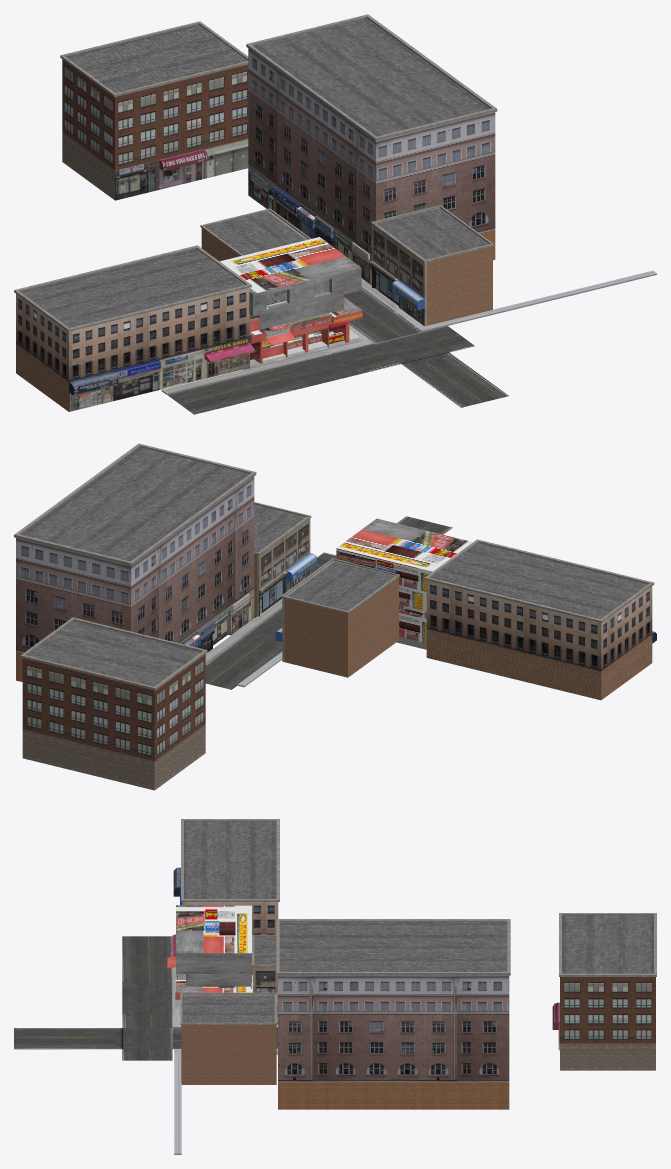
File: Pharmacy.glb
3 renders of one model, top to bottom at view 1: azimuth 30°, elevation 25°; view 2: azimuth 150°, elevation 25°; view 3: azimuth 270°, elevation 25°, orthographic. The views are drawn at different scales.
Parts seen in each view (by area): view 1: Building_02, Building_06, Building_04, Road, Building_09, CSGCombiner3D22, Building_09.001, Sidewalk.001, Sidewalk; view 2: Building_02, Building_06, Building_04, Building_09.001, CSGCombiner3D22, Building_09, Road, Sidewalk.001; view 3: Building_02, Building_04, Building_06, Building_09, Road, CSGCombiner3D22, Building_09.001, Sidewalk.001.
Part boxes in pixels (x1=…): Building_02: x1=246, y1=14, x2=497, y2=285; Building_06: x1=14, y1=245, x2=255, y2=411; Building_04: x1=60, y1=21, x2=248, y2=200; Road: x1=166, y1=288, x2=508, y2=414; Building_09: x1=369, y1=205, x2=493, y2=326; CSGCombiner3D22: x1=220, y1=237, x2=362, y2=363; Building_09.001: x1=200, y1=208, x2=311, y2=261; Sidewalk.001: x1=361, y1=270, x2=656, y2=331; Sidewalk: x1=161, y1=325, x2=373, y2=394; Building_02: x1=14, y1=443, x2=256, y2=681; Building_06: x1=424, y1=539, x2=656, y2=700; Building_04: x1=20, y1=617, x2=207, y2=790; Building_09.001: x1=275, y1=558, x2=399, y2=677; CSGCombiner3D22: x1=336, y1=518, x2=472, y2=643; Building_09: x1=254, y1=502, x2=316, y2=617; Road: x1=205, y1=516, x2=452, y2=689; Sidewalk.001: x1=205, y1=598, x2=282, y2=662; Building_02: x1=276, y1=919, x2=510, y2=1109; Building_04: x1=552, y1=913, x2=656, y2=1070; Building_06: x1=172, y1=819, x2=279, y2=974; Building_09: x1=180, y1=992, x2=277, y2=1084; Road: x1=14, y1=936, x2=277, y2=1060; CSGCombiner3D22: x1=167, y1=905, x2=251, y2=999; Building_09.001: x1=251, y1=934, x2=277, y2=1023; Sidewalk.001: x1=174, y1=1049, x2=277, y2=1154.
Bounding box in the file's own units: 107 × 26.84 × 112.
Materials: 43 (42 with a texture image).
